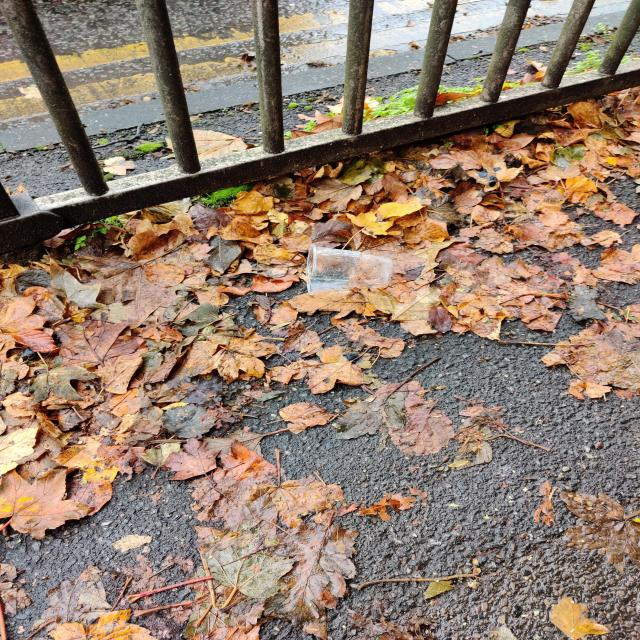litter: (301, 242, 394, 298)
